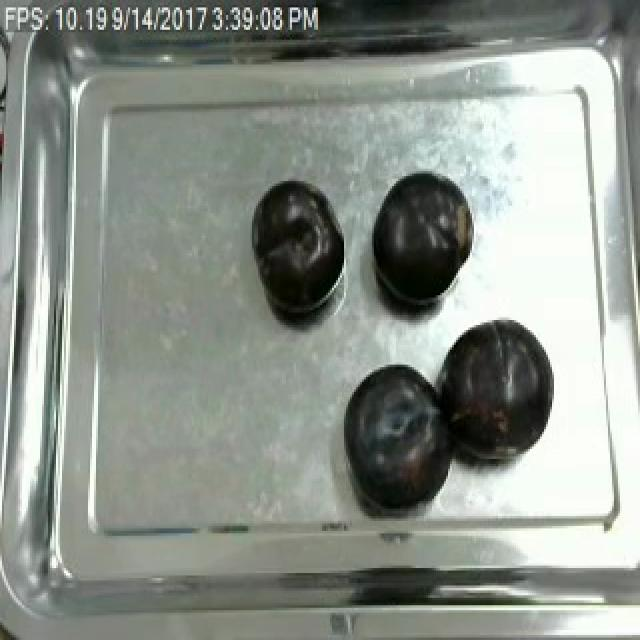Fruit: (338, 357, 460, 514), (432, 312, 558, 464), (366, 164, 478, 312), (248, 174, 346, 320)
